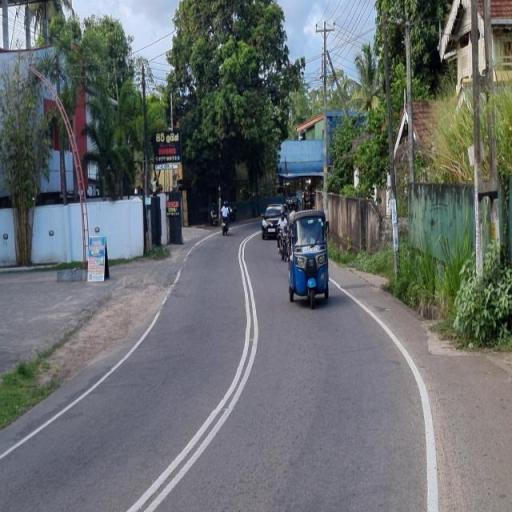double_white_line: (124, 230, 264, 512)
